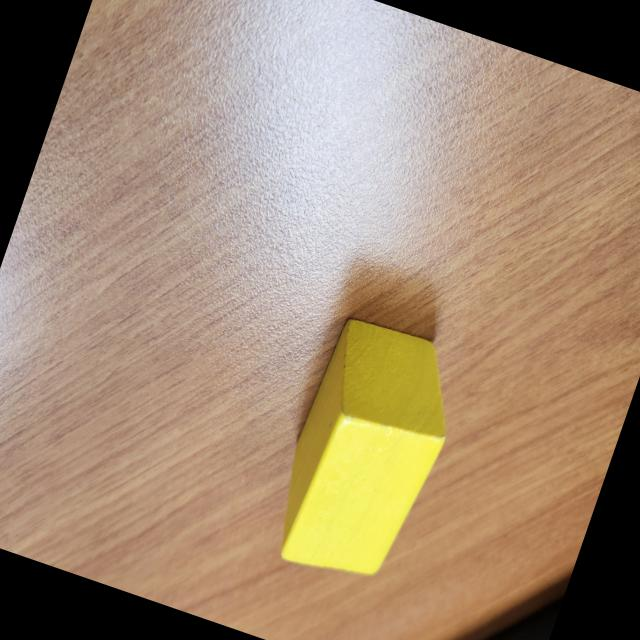yellow: (251, 306, 474, 597)
